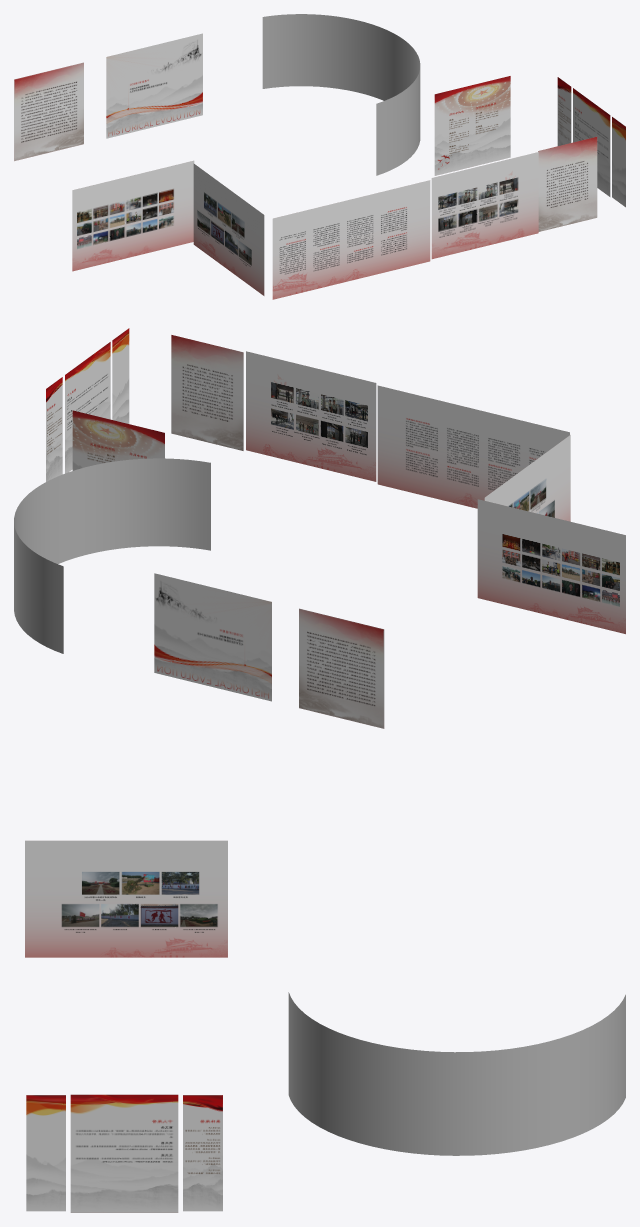
3 renders of one model, top to bottom at view 1: azimuth 30°, elevation 25°; view 2: azimuth 150°, elevation 25°; view 3: azimuth 270°, elevation 25°, orthographic. The views are drawn at different scales.
Parts seen in each view (by area): view 1: 机动3中队_发展历程, 机动3中队_建设成就, 机动3中队_官兵风采, 机动3中队_重大任务, 机动3中队_历史沿革, 机动3中队_历任主官, 机动3中队_军营文化, 机动3中队_前言, 机动3中队_未来寄语, 机动3中队_历史荣誉中, 机动3中队_历史荣誉右, 机动3中队_历史荣誉左; view 2: 机动3中队_发展历程, 机动3中队_官兵风采, 机动3中队_建设成就, 机动3中队_重大任务, 机动3中队_历史沿革, 机动3中队_前言, 机动3中队_未来寄语, 机动3中队_军营文化, 机动3中队_历任主官, 机动3中队_历史荣誉中, 机动3中队_历史荣誉左, 机动3中队_历史荣誉右; view 3: 机动3中队_发展历程, 机动3中队_军营文化, 机动3中队_历史荣誉中, 机动3中队_历史荣誉右, 机动3中队_历史荣誉左.
Part boxes in pixels (box(x1,y1,x2,y2)): 机动3中队_发展历程: box(262, 14, 420, 175); 机动3中队_建设成就: box(272, 180, 430, 299); 机动3中队_官兵风采: box(72, 160, 194, 271); 机动3中队_重大任务: box(431, 152, 538, 259); 机动3中队_历史沿革: box(106, 33, 202, 138); 机动3中队_历任主官: box(434, 76, 510, 175); 机动3中队_军营文化: box(193, 163, 264, 295); 机动3中队_前言: box(14, 62, 83, 161); 机动3中队_未来寄语: box(538, 136, 597, 231); 机动3中队_历史荣誉中: box(573, 88, 610, 196); 机动3中队_历史荣誉右: box(612, 117, 625, 207); 机动3中队_历史荣誉左: box(557, 77, 571, 145); 机动3中队_发展历程: box(14, 458, 210, 653); 机动3中队_官兵风采: box(477, 499, 625, 634); 机动3中队_建设成就: box(377, 385, 569, 508); 机动3中队_重大任务: box(246, 351, 376, 481); 机动3中队_历史沿革: box(154, 573, 271, 701); 机动3中队_前言: box(299, 608, 384, 728); 机动3中队_未来寄语: box(171, 335, 243, 450); 机动3中队_军营文化: box(484, 435, 570, 521); 机动3中队_历任主官: box(72, 410, 164, 470); 机动3中队_历史荣誉中: box(65, 342, 110, 473); 机动3中队_历史荣誉左: box(46, 377, 62, 481); 机动3中队_历史荣誉右: box(112, 328, 129, 423); 机动3中队_发展历程: box(288, 992, 625, 1155); 机动3中队_军营文化: box(25, 840, 227, 957); 机动3中队_历史荣誉中: box(70, 1094, 178, 1212); 机动3中队_历史荣誉右: box(26, 1095, 65, 1211); 机动3中队_历史荣誉左: box(183, 1095, 222, 1211).
Size of the model in its own units: 1029 by 170 by 789.
